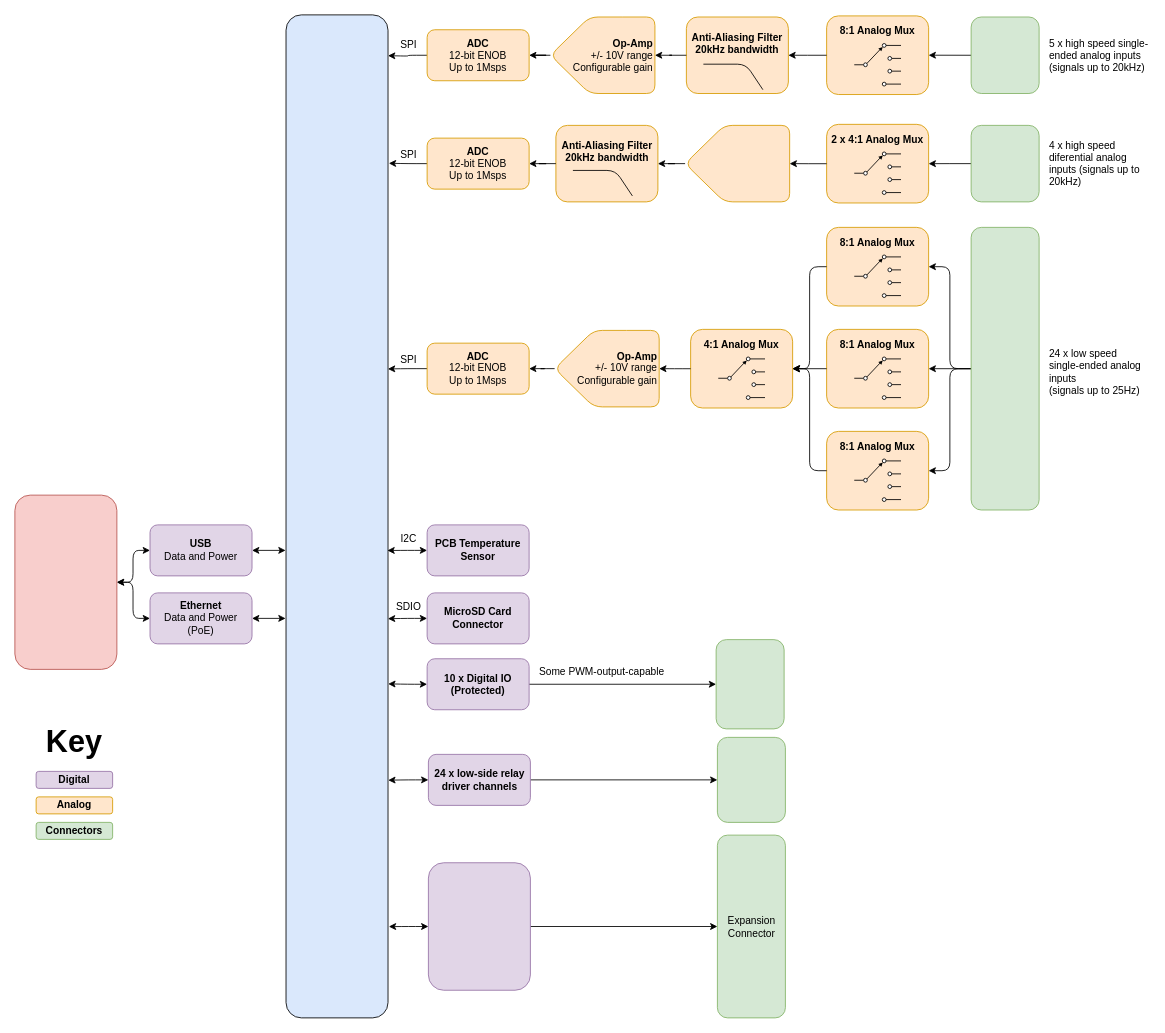
Some shapes in this 1165 by 1033 pixel diagram are drawn without their labels. Each missing label, with the centre of its shape:
AIN_HD1P AIN_HD1N ... AIN_HD4N: (x=1004, y=163)
AIN_HS1 AIN_HS2 ... AIN_HS5: (x=1004, y=55)
AIN_LS1 AIN_LS2 ... AIN_LS20: (x=1004, y=368)
DIO1 DIO2 ... DIO10: (x=749, y=684)
Expansion I2C SPI CAN UART Extra Digital IO: (x=479, y=926)
Host Computer: (x=65, y=581)
In-Amp +/- 10V range Configurable gain: (x=737, y=163)
Microcontroller (MCU): (x=336, y=516)
R1 R2 ... R24: (x=751, y=779)
